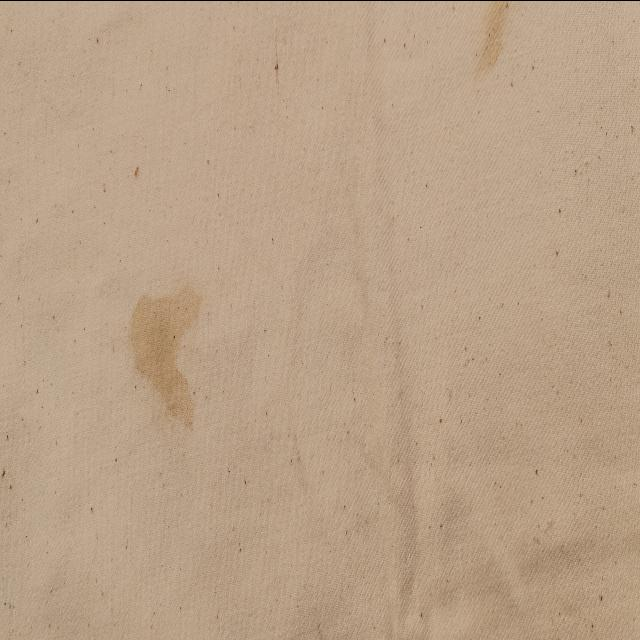taaaches: (120, 262, 210, 434), (466, 0, 516, 70)
